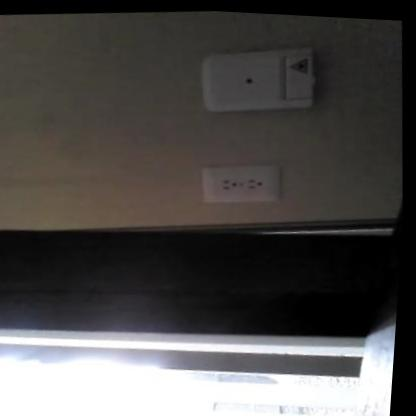OUTLET: (200, 159, 282, 205)
